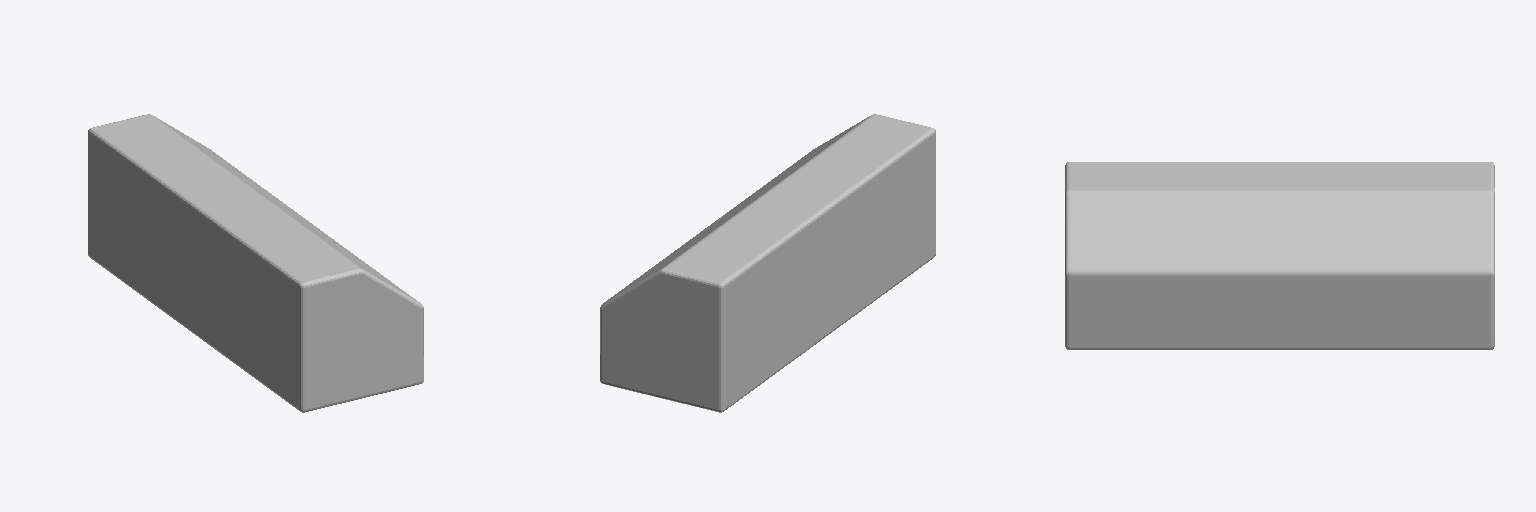
Rendered from Wall_HP.obj.
The picture shows the model from 3 angles: view 1: azimuth 30°, elevation 25°; view 2: azimuth 150°, elevation 25°; view 3: azimuth 270°, elevation 25°; orthographic projection.
Parts seen in each view (by area): view 1: Wall_HP; view 2: Wall_HP; view 3: Wall_HP.
Boxes of the visible parts, box(x1,y1,x2,y2) form: Wall_HP: box(88, 114, 423, 412); Wall_HP: box(600, 114, 935, 412); Wall_HP: box(1065, 162, 1494, 349).
Bounding box in the file's own units: 1 × 1 × 3.